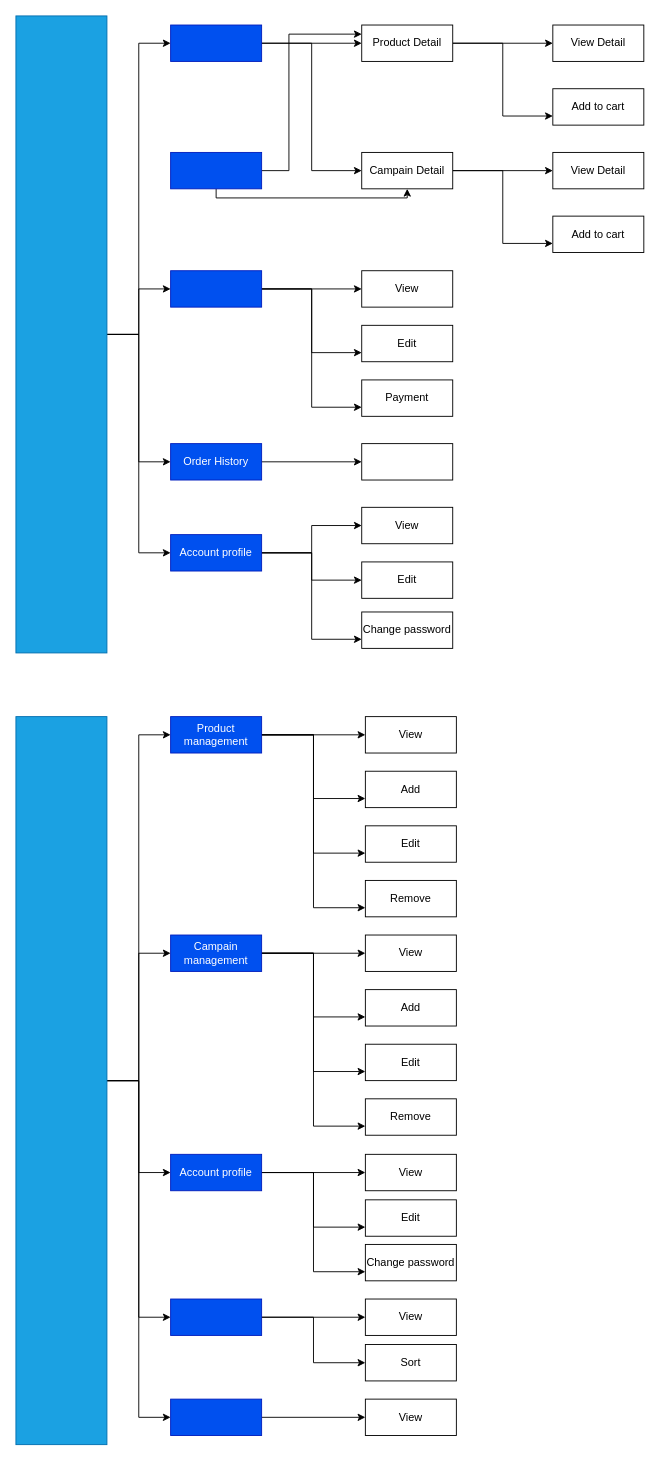
Some shapes in this 660 by 1461 pixel diagram are drawn without their labels. The shapes that lost their labels are listed below. From the top down, each one's box as (x1, y1, x2, y2) in pixels, then its label:
(170, 24, 262, 61): New feed
(170, 152, 262, 189): Search
(170, 270, 262, 307): Shopping cart
(15, 15, 107, 653): Login customer
(361, 443, 453, 480): View order detail
(15, 716, 107, 1445): Login store admin
(170, 1298, 262, 1335): Report statistic
(170, 1398, 262, 1436): Notification
